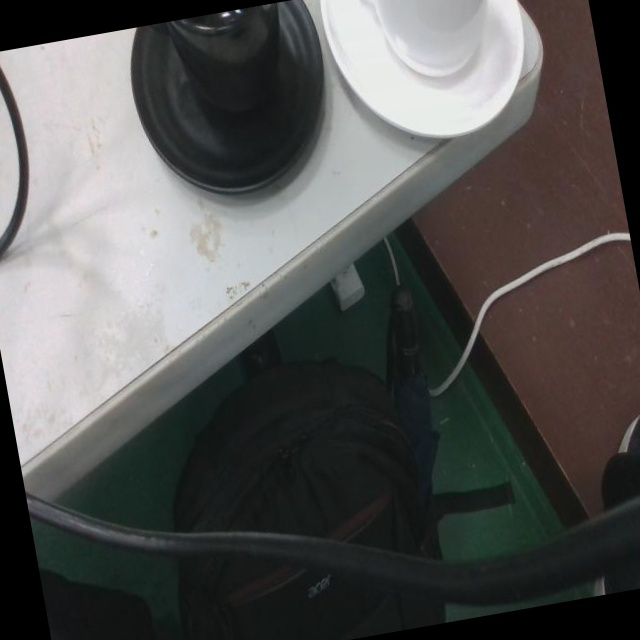black: (133, 12, 332, 199)
white: (329, 0, 532, 146)
